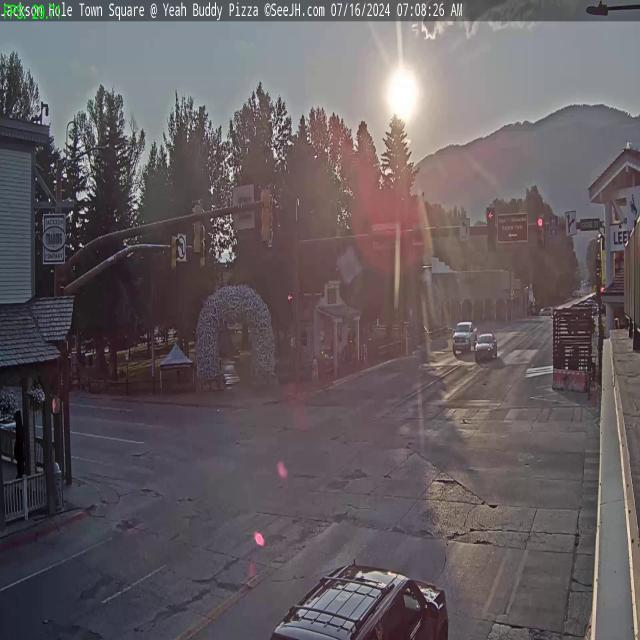pickup: (452, 319, 474, 352)
sedan: (473, 331, 498, 362)
suv: (262, 556, 451, 639)
traffic light: (260, 184, 274, 244), (190, 200, 203, 256), (486, 207, 496, 252), (170, 235, 180, 272), (536, 215, 545, 248), (200, 238, 208, 271)
